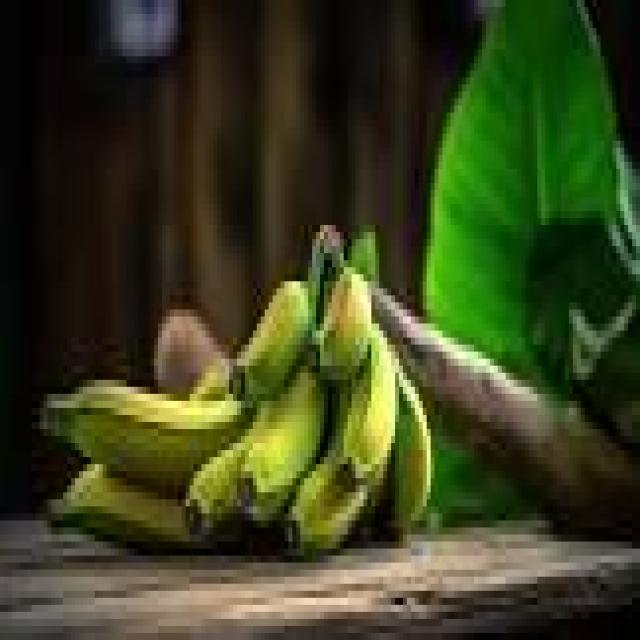banana: (44, 380, 244, 492), (285, 380, 383, 555), (48, 465, 197, 548), (241, 366, 327, 506), (186, 408, 268, 541), (230, 282, 312, 400), (340, 324, 399, 478), (285, 451, 367, 555), (388, 359, 430, 534), (186, 437, 248, 541), (313, 268, 371, 379), (309, 226, 343, 323), (241, 486, 296, 527), (190, 366, 229, 400)
